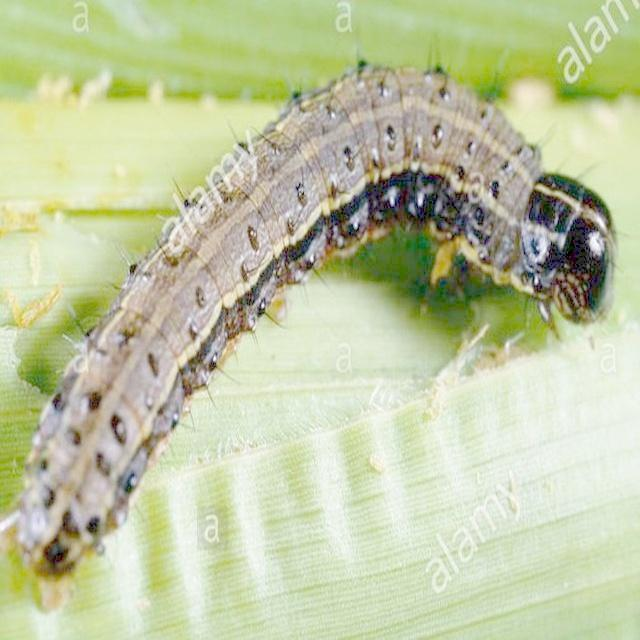gusano_cogollero: (0, 50, 615, 620)
